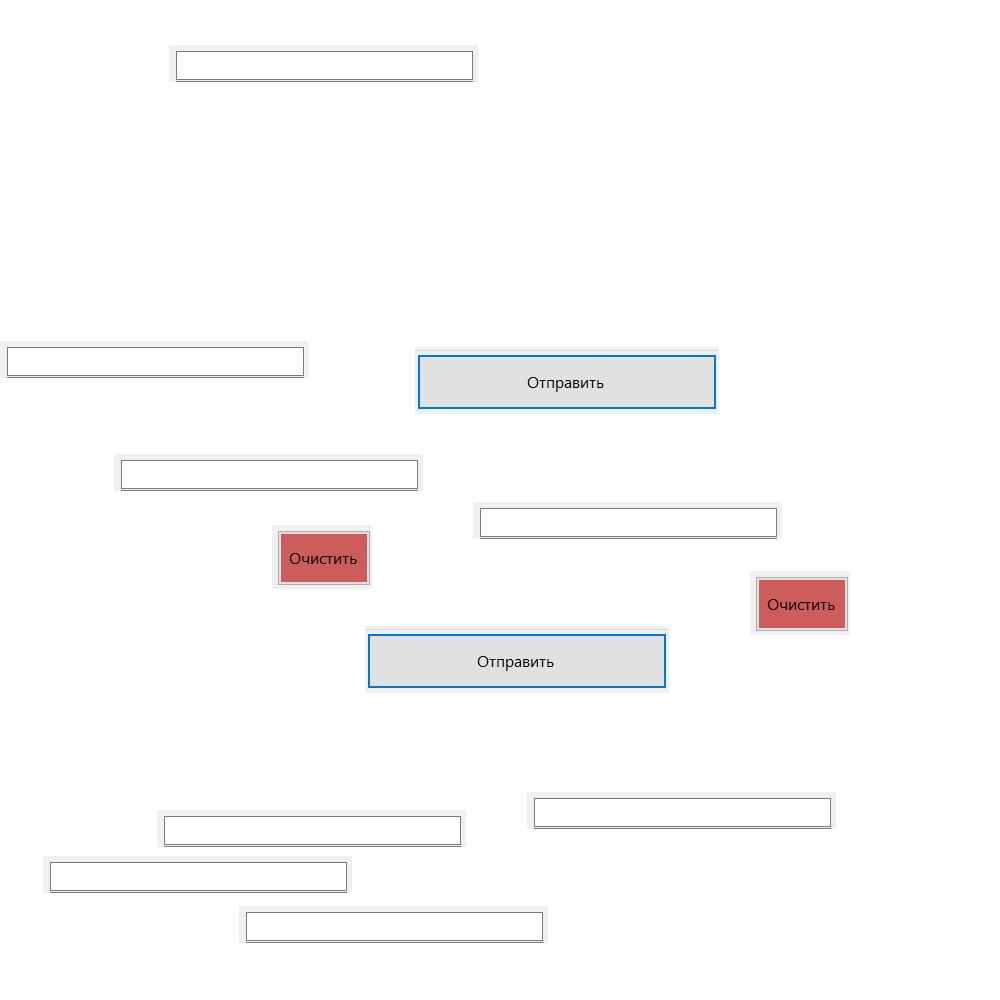Button: (415, 347, 719, 414), (365, 626, 669, 693), (272, 525, 372, 589), (750, 571, 850, 635)
EditText-: (527, 792, 836, 829), (473, 502, 782, 539), (43, 856, 352, 893), (169, 45, 478, 82), (0, 341, 309, 378), (114, 454, 423, 491), (157, 810, 466, 847), (239, 906, 548, 943)
